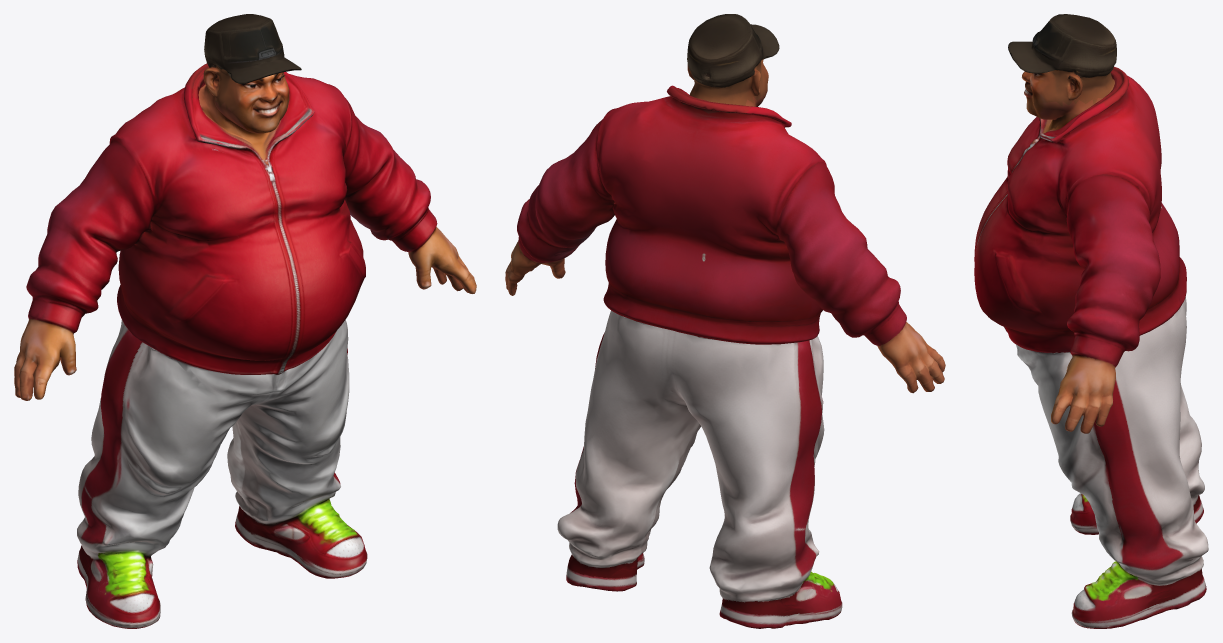
File: ph-cowbell-cutlery_body.glb
3 renders of one model, left to right at view 1: azimuth 30°, elevation 25°; view 2: azimuth 150°, elevation 25°; view 3: azimuth 270°, elevation 25°, orthographic. The views are drawn at different scales.
Visible parts, largest first — view 1: ph-cowbell-cutlery; view 2: ph-cowbell-cutlery; view 3: ph-cowbell-cutlery.
Part boxes in pixels (x1,y1,x2,y2): ph-cowbell-cutlery: (14,14,476,628); ph-cowbell-cutlery: (505,14,945,628); ph-cowbell-cutlery: (974,14,1208,628).
Size of the model in its own units: 1.46 by 1.8 by 0.6923.
2 materials, 2 textured.
